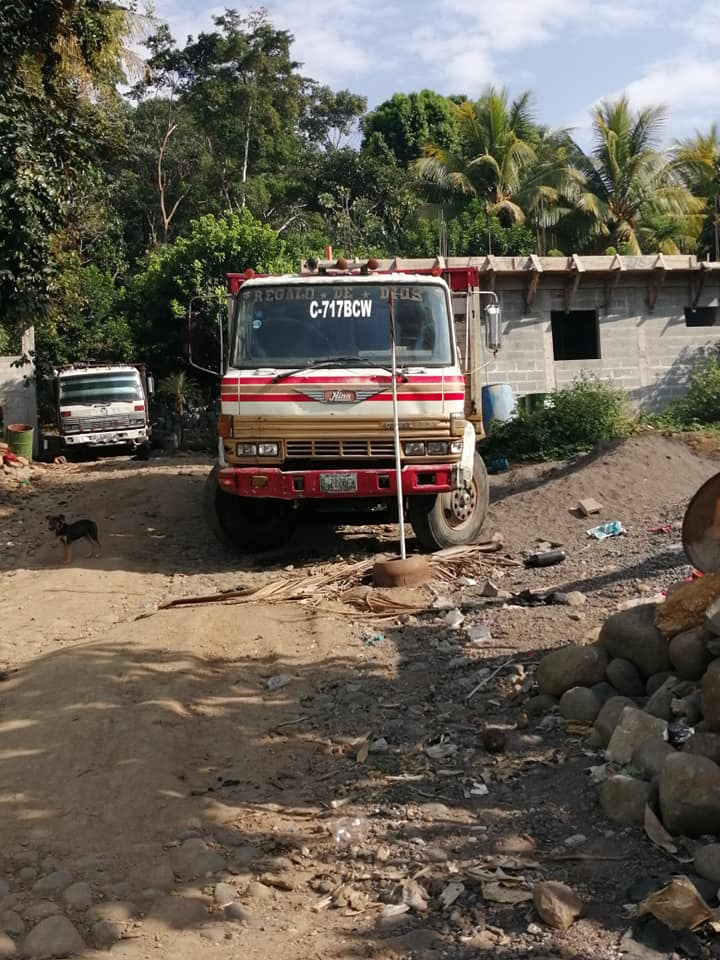camion: (182, 257, 501, 551), (40, 356, 159, 461)
